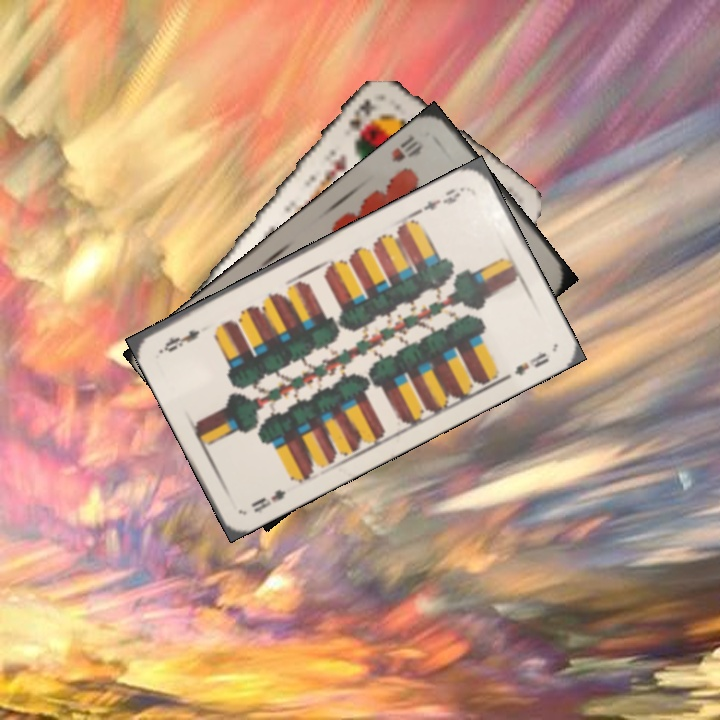E9: (414, 182, 468, 217), (246, 485, 289, 517)
H10: (387, 130, 426, 165)
SK: (342, 95, 378, 146)
